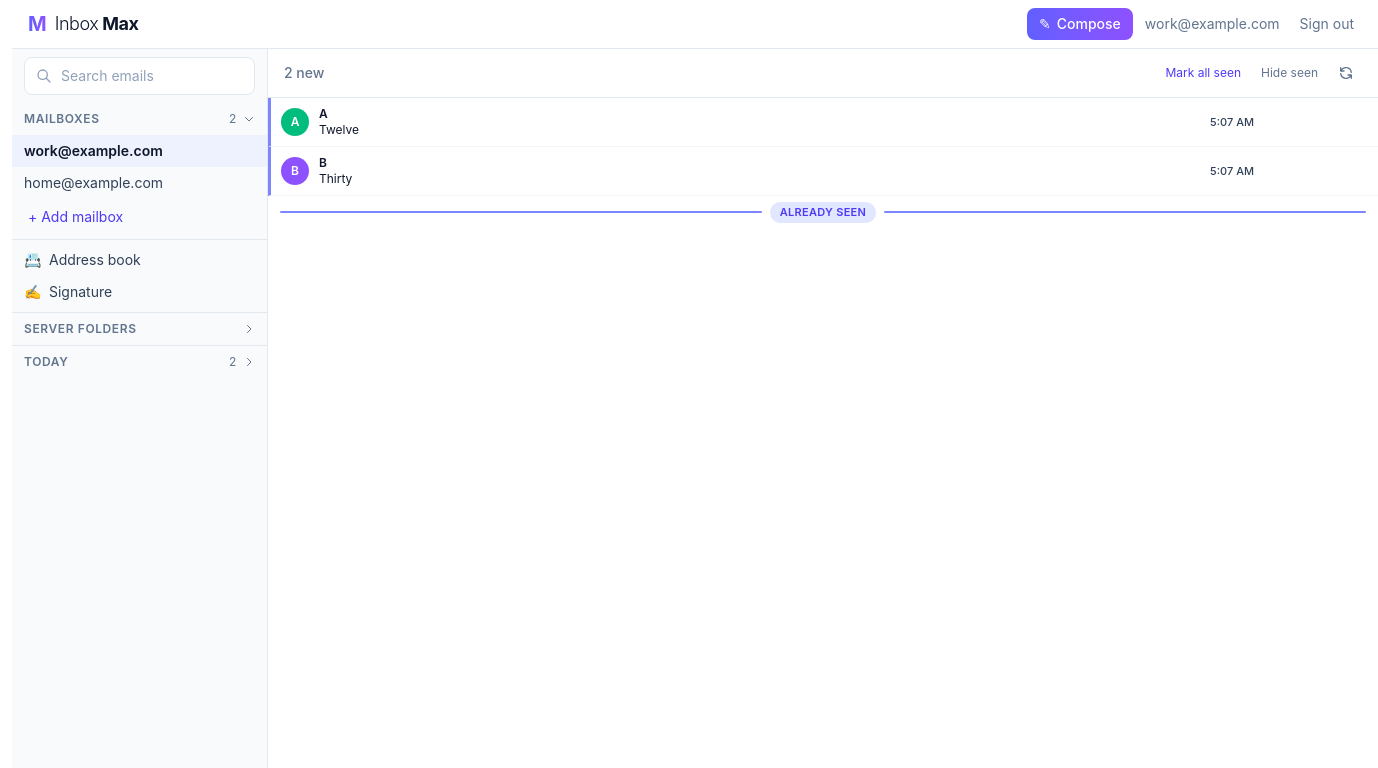
inbox page › switches between mailboxes and remembers the choice
Expected: the text "Thirty" is shown, [319,171,352,186]
Click the button "home@example.com". click: (124, 183)
box: [12,167,235,199]
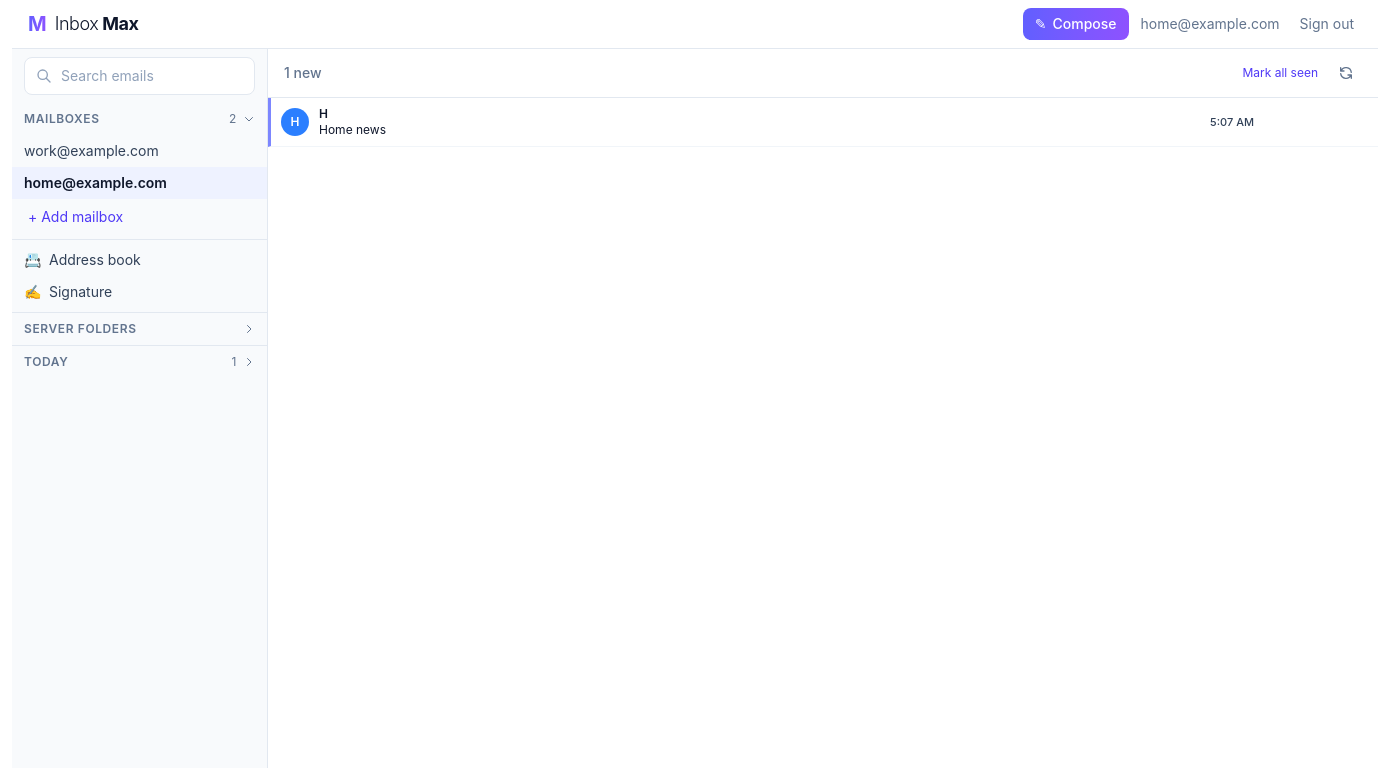
Expected: the text "Home news" is shown, [319,122,386,137]
Expected: the button "Thirty" is gone
